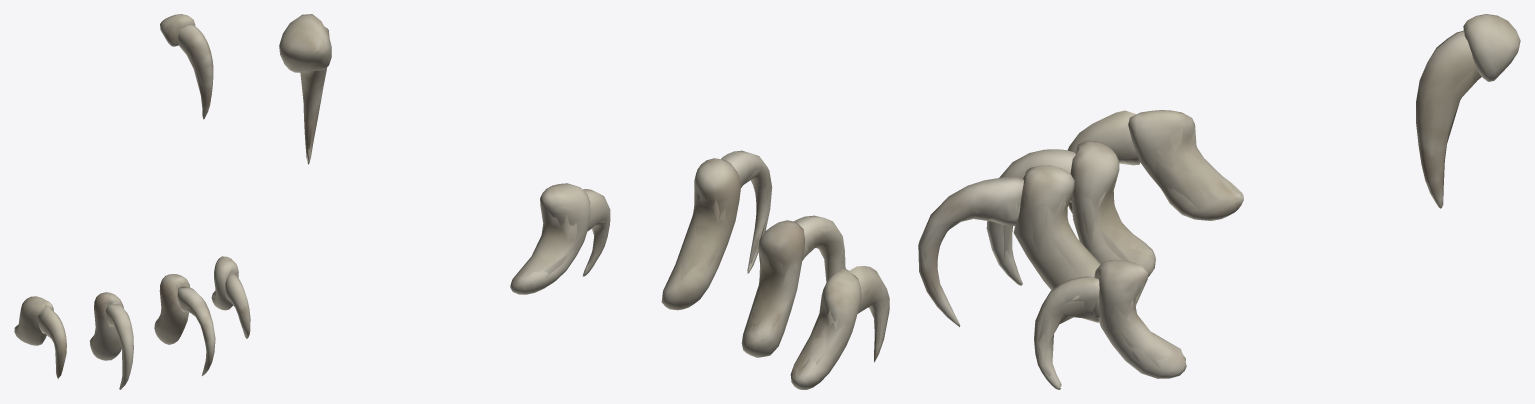
The model's file is RF 3rd Phalanx.fbx.
The picture shows the model from 3 angles, left to right: view 1: azimuth 30°, elevation 25°; view 2: azimuth 150°, elevation 25°; view 3: azimuth 270°, elevation 25°; orthographic projection. The views are drawn at different scales.
Visible parts, largest first — view 1: RF 3rd Phalanx, RF 3rd Phalanx low, RF 3rd Phalanx high; view 2: RF 3rd Phalanx, RF 3rd Phalanx low, RF 3rd Phalanx high; view 3: RF 3rd Phalanx, RF 3rd Phalanx low, RF 3rd Phalanx high.
Boxes of the visible parts, x1,y1,x2,y2 form: RF 3rd Phalanx: [14, 14, 250, 389]; RF 3rd Phalanx low: [16, 15, 250, 385]; RF 3rd Phalanx high: [18, 17, 248, 388]; RF 3rd Phalanx: [279, 14, 889, 389]; RF 3rd Phalanx low: [281, 14, 889, 388]; RF 3rd Phalanx high: [280, 15, 886, 380]; RF 3rd Phalanx: [918, 14, 1520, 389]; RF 3rd Phalanx low: [920, 15, 1511, 381]; RF 3rd Phalanx high: [920, 15, 1514, 388].
Bounding box in the file's own units: 2.54 × 2.23 × 2.78.
Materials: 1 (1 with a texture image).
